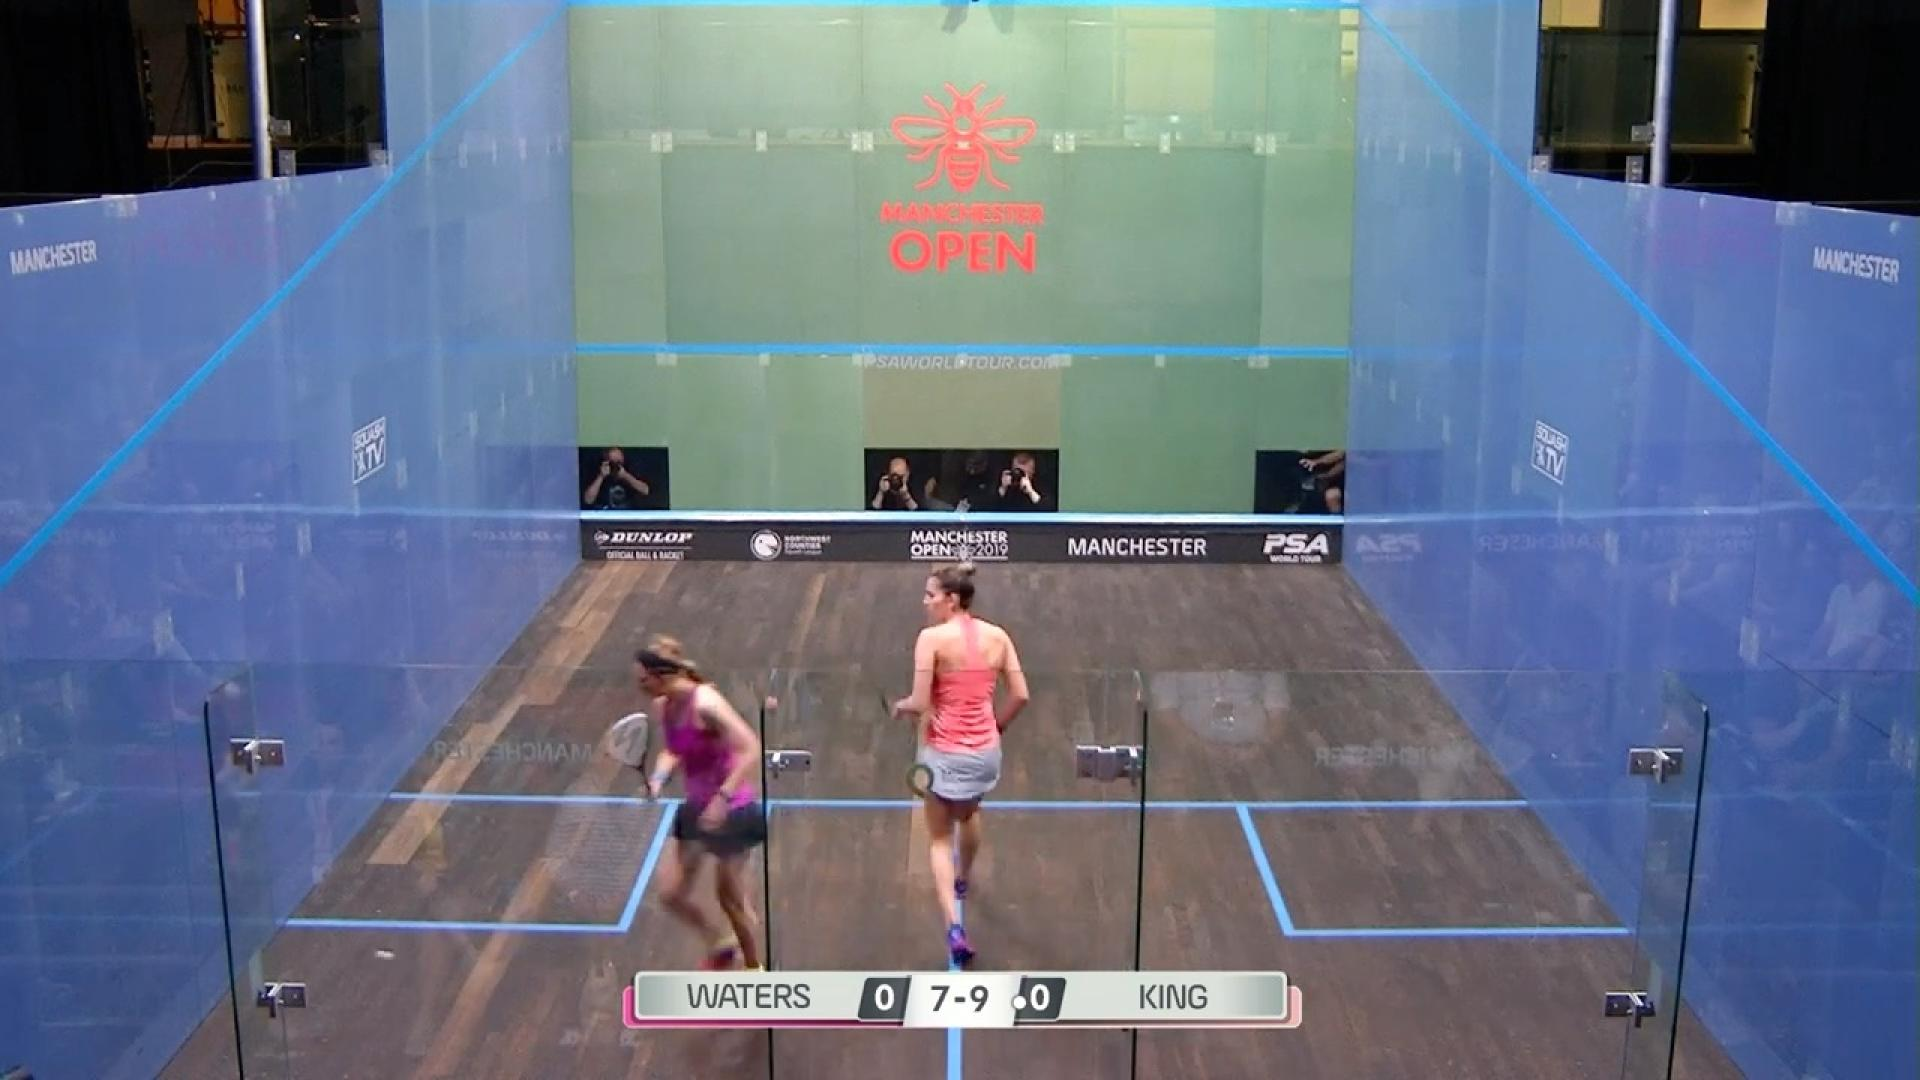Squash-Ball: (365, 930, 407, 980)
